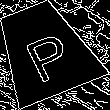P_NW: (14, 20, 74, 81)
